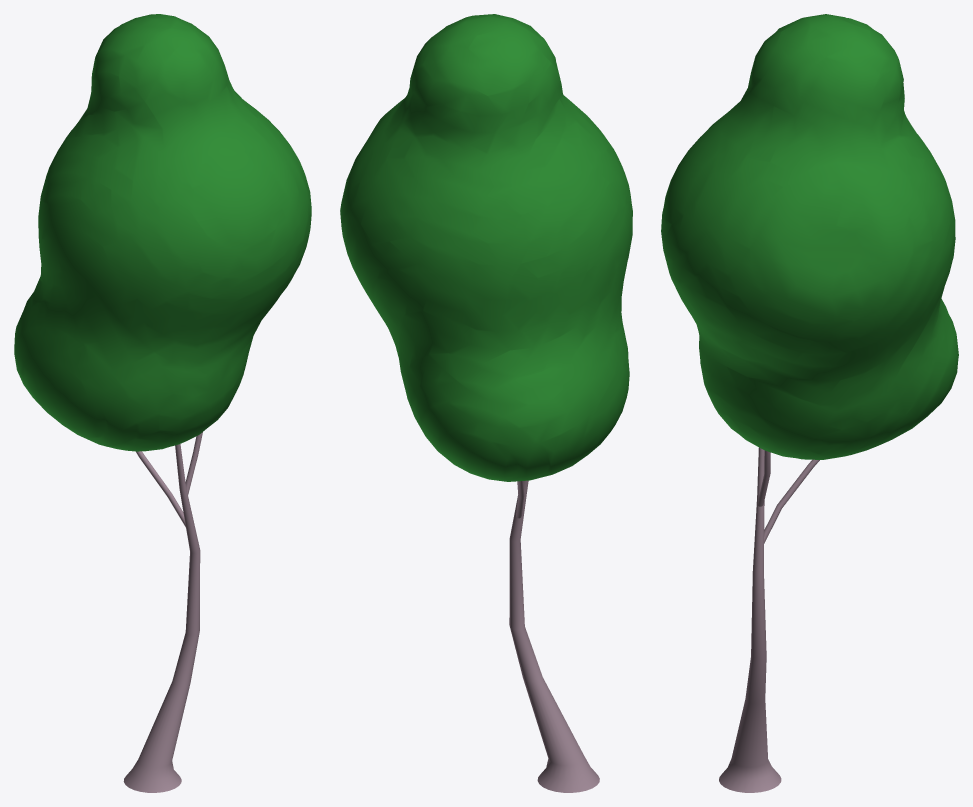
Rendered from tree03.fbx.
The picture shows the model from 3 angles, left to right: view 1: azimuth 30°, elevation 25°; view 2: azimuth 150°, elevation 25°; view 3: azimuth 270°, elevation 25°; orthographic projection. The views are drawn at different scales.
Visible parts, largest first — view 1: tree01; view 2: tree01; view 3: tree01.
Boxes of the visible parts, <box> form: tree01: <box>14,14,311,792</box>; tree01: <box>340,14,632,792</box>; tree01: <box>661,14,958,792</box>.
Bounding box in the file's own units: 132 × 371 × 129.
